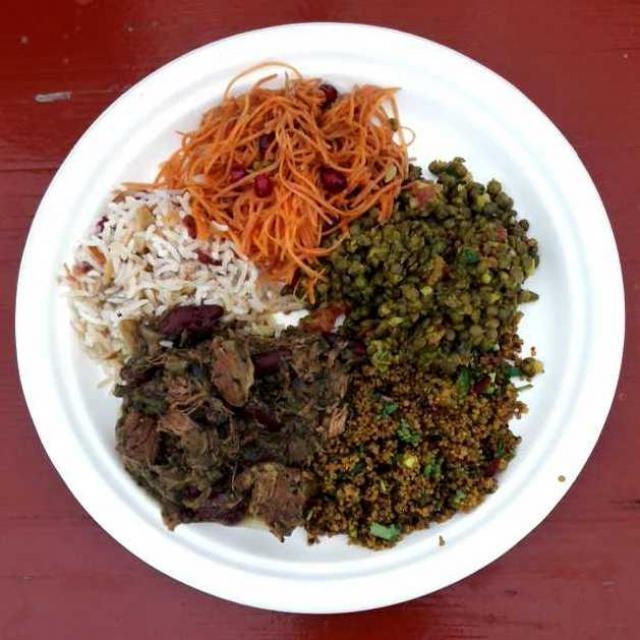beef: (109, 310, 339, 534)
carrot: (150, 77, 421, 298)
lentils: (314, 165, 554, 394)
nuts: (66, 208, 197, 352)
pomegranate: (242, 78, 362, 203)
rice: (61, 184, 330, 358)
sauce: (122, 325, 339, 544)
